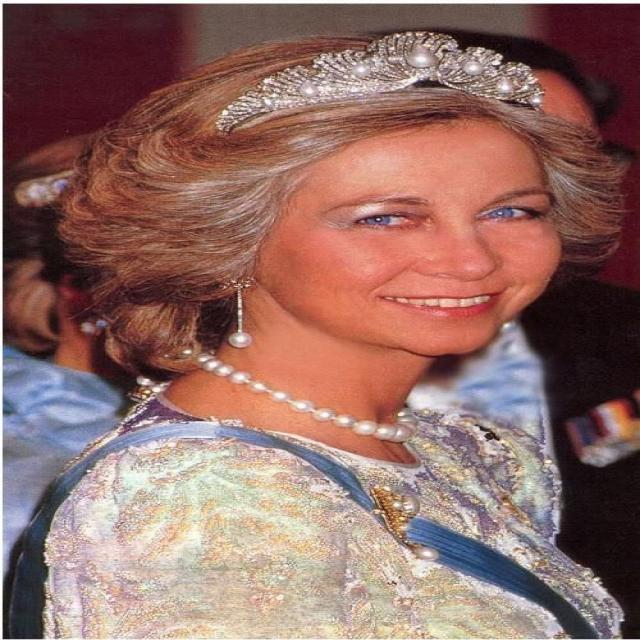Earring: (220, 277, 265, 359)
